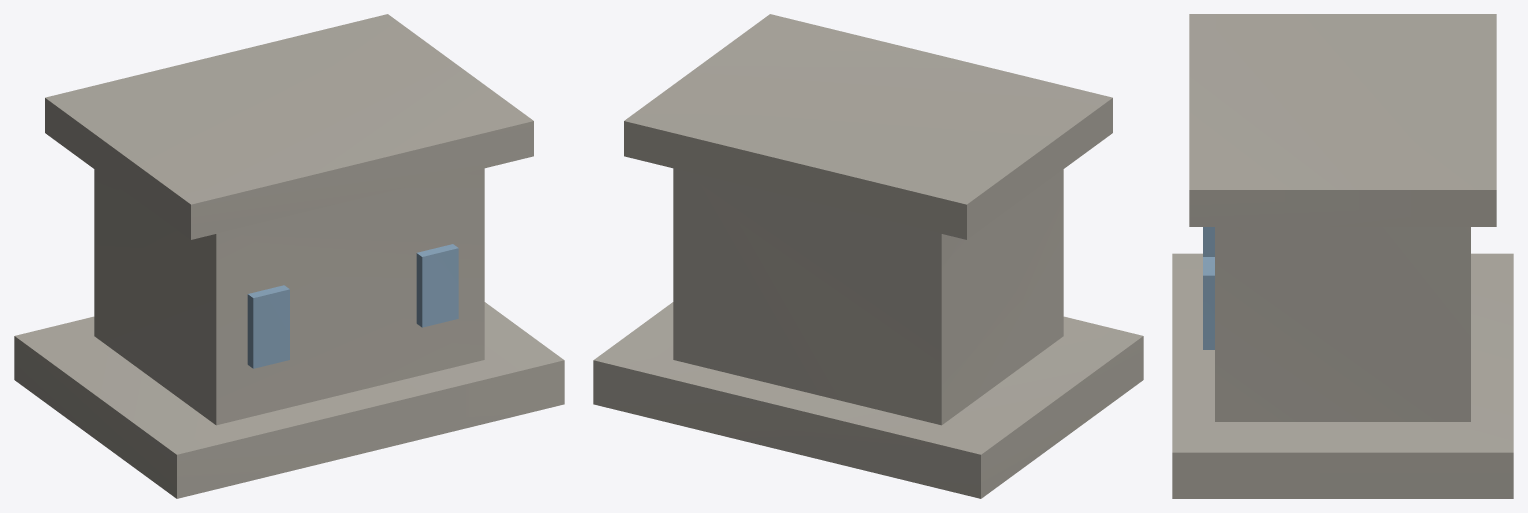
File: market-05.glb
The picture shows the model from 3 angles, left to right: view 1: azimuth 30°, elevation 25°; view 2: azimuth 150°, elevation 25°; view 3: azimuth 270°, elevation 25°; orthographic projection. The views are drawn at different scales.
Parts seen in each view (by area): view 1: world; view 2: world; view 3: world.
Part boxes in pixels (left/top/right/bottom): world: left=14, top=14, right=564, bottom=498; world: left=593, top=14, right=1143, bottom=498; world: left=1172, top=14, right=1513, bottom=498.
Bounding box in the file's own units: 1.38 × 0.961 × 1.
